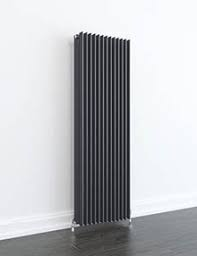Radiator: (73, 30, 133, 226)
